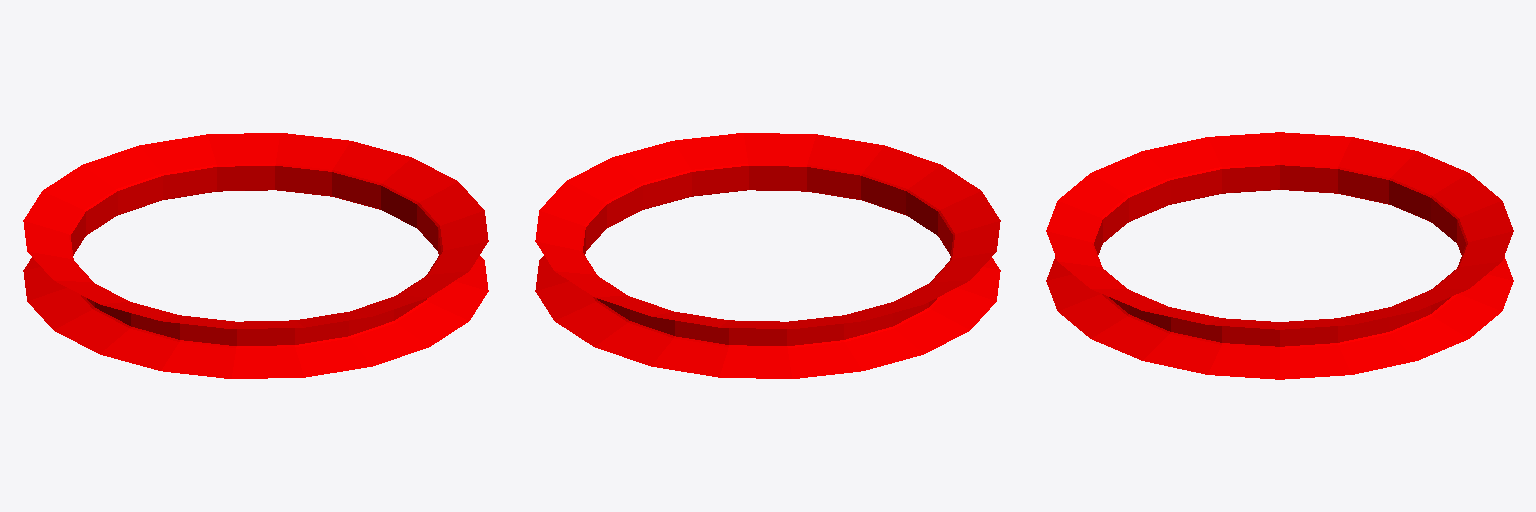
The model's file is tunnel-rings.obj.
3 renders of one model, left to right at view 1: azimuth 30°, elevation 25°; view 2: azimuth 150°, elevation 25°; view 3: azimuth 270°, elevation 25°, orthographic.
Visible parts, largest first — view 1: pCylinder2; view 2: pCylinder2; view 3: pCylinder2.
Boxes of the visible parts, box(x1,y1,x2,y2) form: pCylinder2: box(23, 133, 488, 378); pCylinder2: box(535, 133, 1000, 378); pCylinder2: box(1046, 132, 1513, 379).
Size of the model in its own units: 2 by 0.2359 by 2.